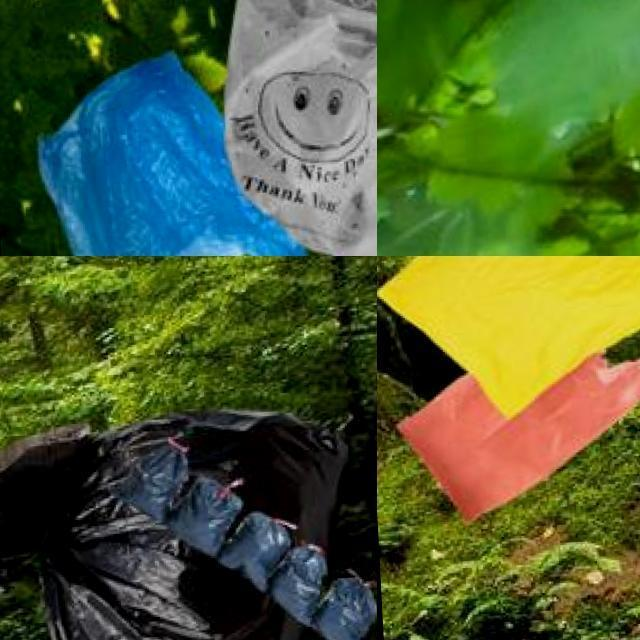waste: (0, 408, 365, 640), (34, 47, 322, 256), (397, 339, 640, 525), (377, 256, 640, 414), (217, 0, 377, 256), (119, 434, 186, 526), (174, 469, 244, 556), (270, 542, 326, 631), (228, 508, 288, 590), (315, 572, 376, 640)
